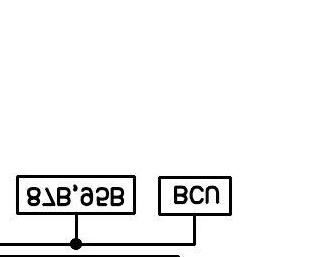BCU: (157, 175, 233, 217)
